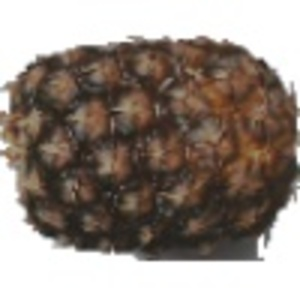abacaxi: (2, 36, 295, 253)
